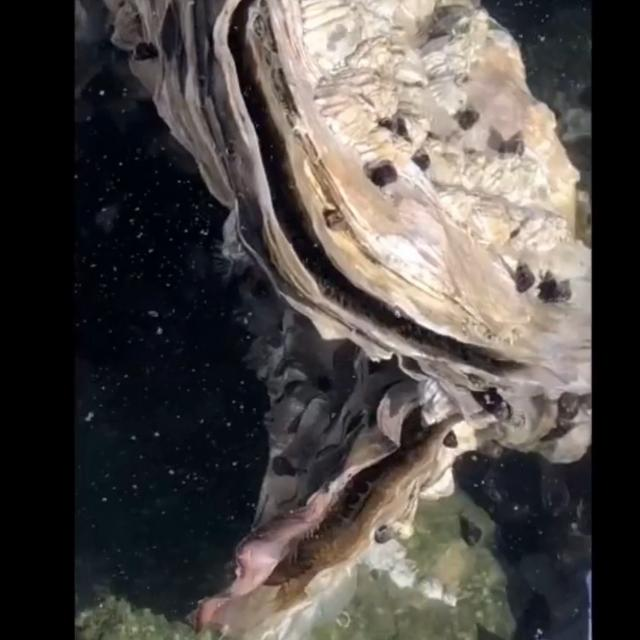Oyster-Open: (111, 0, 596, 406), (183, 302, 482, 640)
